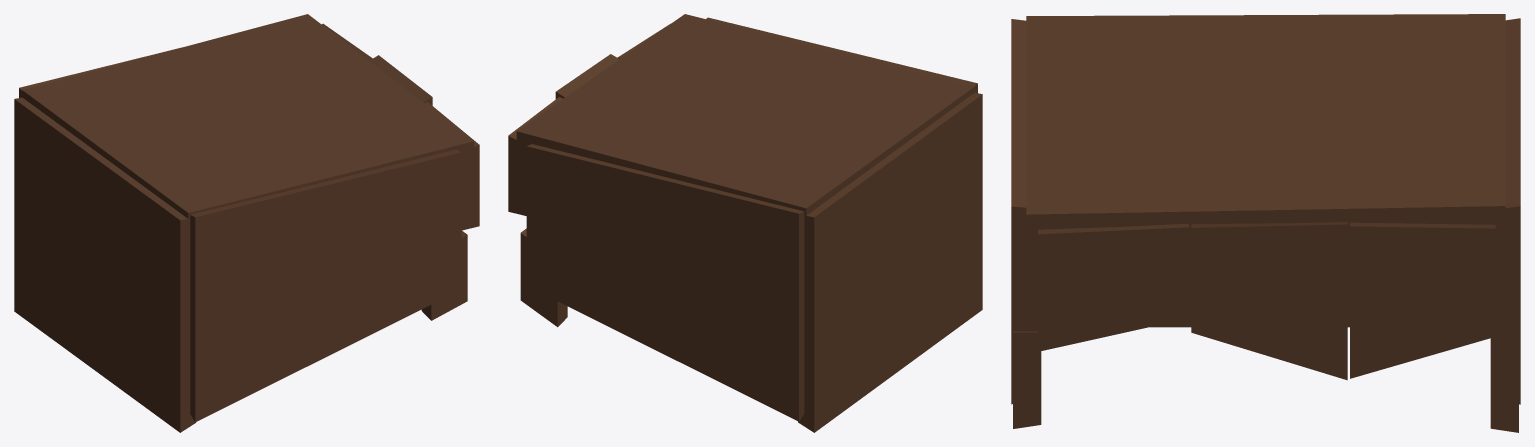
3 views of the same model, side by side, from view 1: azimuth 30°, elevation 25°; view 2: azimuth 150°, elevation 25°; view 3: azimuth 270°, elevation 25° (orthographic). The views are drawn at different scales.
Parts seen in each view (by area): view 1: hair_oo1; view 2: hair_oo1; view 3: hair_oo1.
Boxes of the visible parts, x1,y1,x2,y2 form: hair_oo1: [14, 14, 479, 432]; hair_oo1: [508, 14, 982, 432]; hair_oo1: [1011, 14, 1520, 432].
Size of the model in its own units: 0.657 by 0.458 by 0.648.
Materials: 1 (1 with a texture image).
